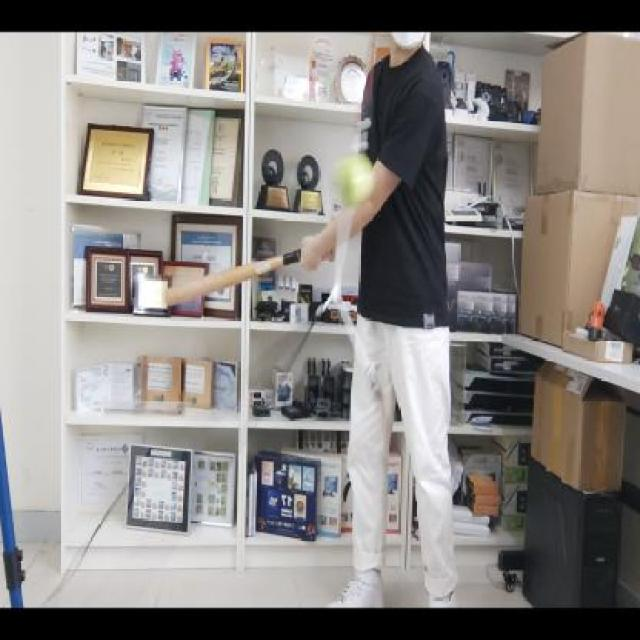baseball: (333, 148, 375, 206)
